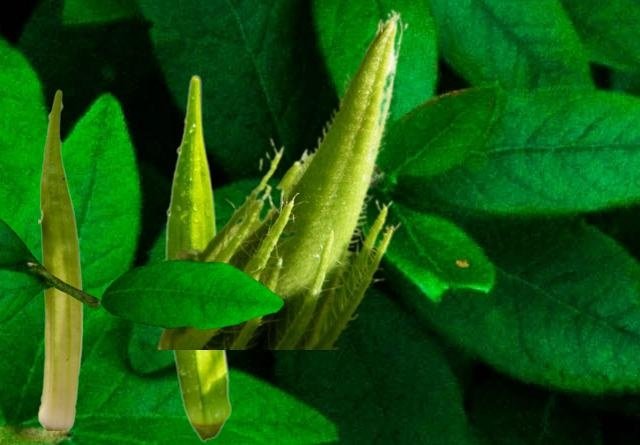okra: (153, 8, 408, 348), (165, 74, 231, 441), (38, 89, 82, 429)
